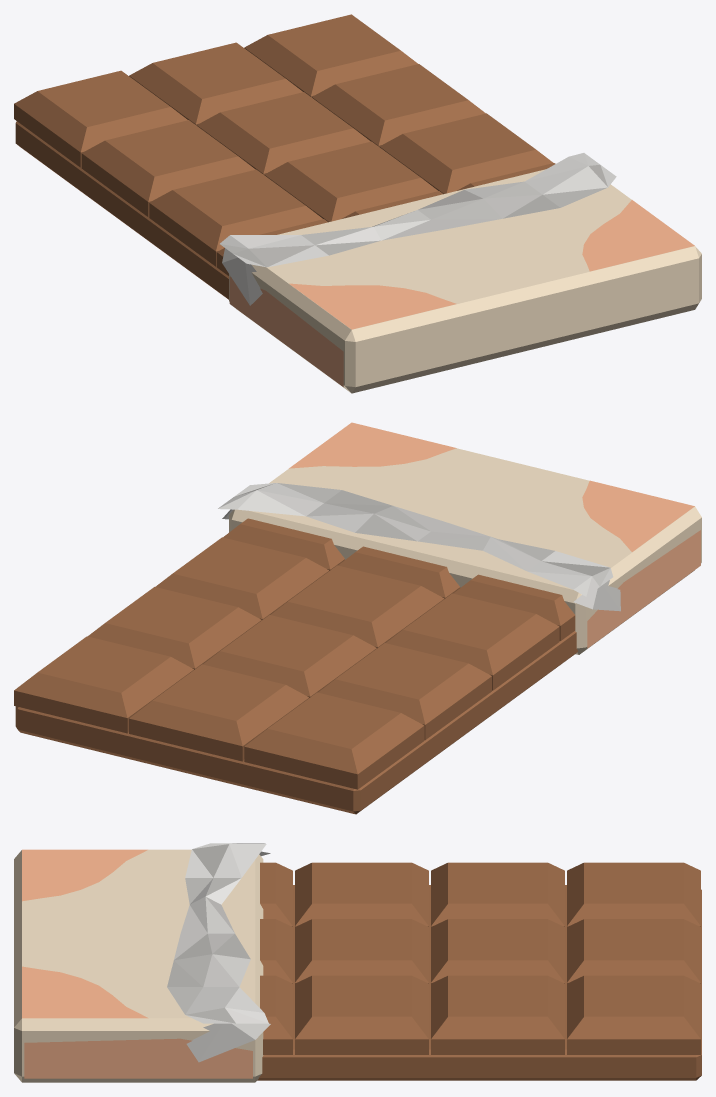
File: chocolate.glb
The picture shows the model from 3 angles, top to bottom: view 1: azimuth 30°, elevation 25°; view 2: azimuth 150°, elevation 25°; view 3: azimuth 270°, elevation 25°; orthographic projection.
Parts seen in each view (by area): view 1: 07 锡纸侧面折角 1; view 2: 07 锡纸侧面折角 1; view 3: 07 锡纸侧面折角 1.
Boxes of the visible parts, bbox=[...] form: 07 锡纸侧面折角 1: bbox=[14, 14, 701, 393]; 07 锡纸侧面折角 1: bbox=[14, 422, 701, 814]; 07 锡纸侧面折角 1: bbox=[14, 843, 701, 1082].
Bounding box in the file's own units: 1.9 × 0.355 × 3.04.
